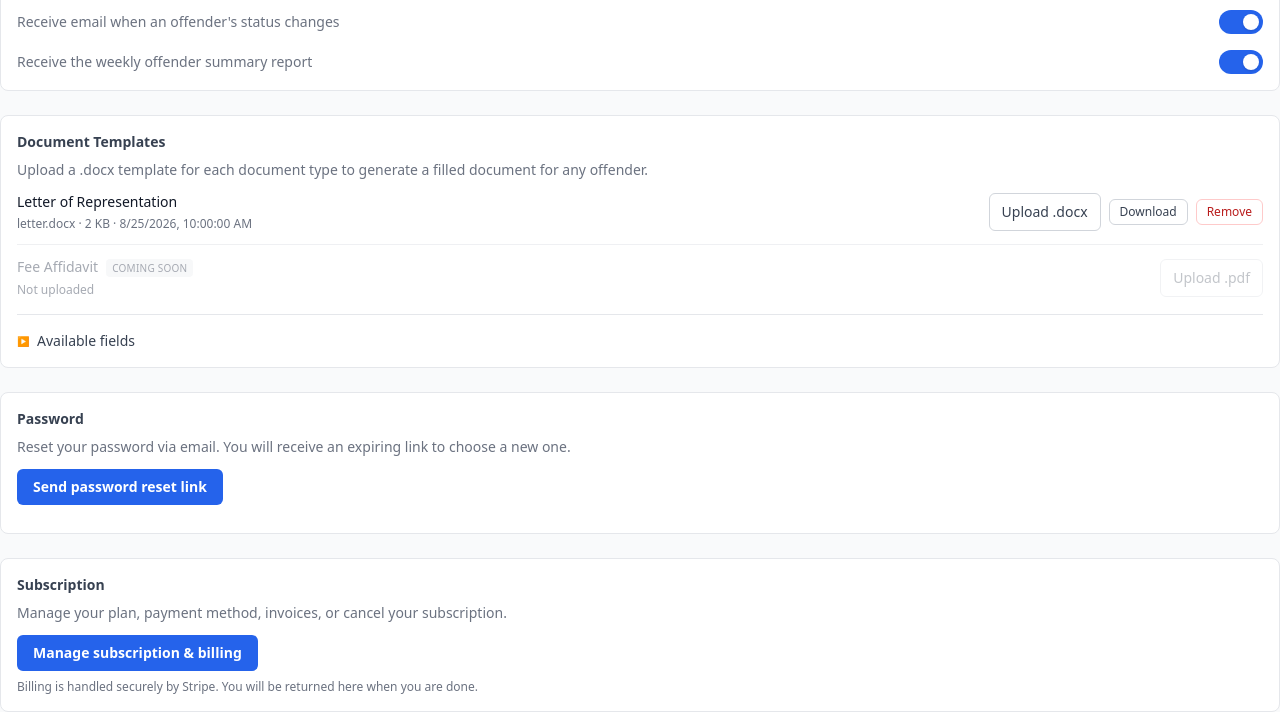
Test: Settings › password reset › shows an error banner when the reset email fails
This screenshot has width=1280, height=712.
(page scrolled)
Click the button "Send password reset link" at [120, 487], box [17,469,223,505]
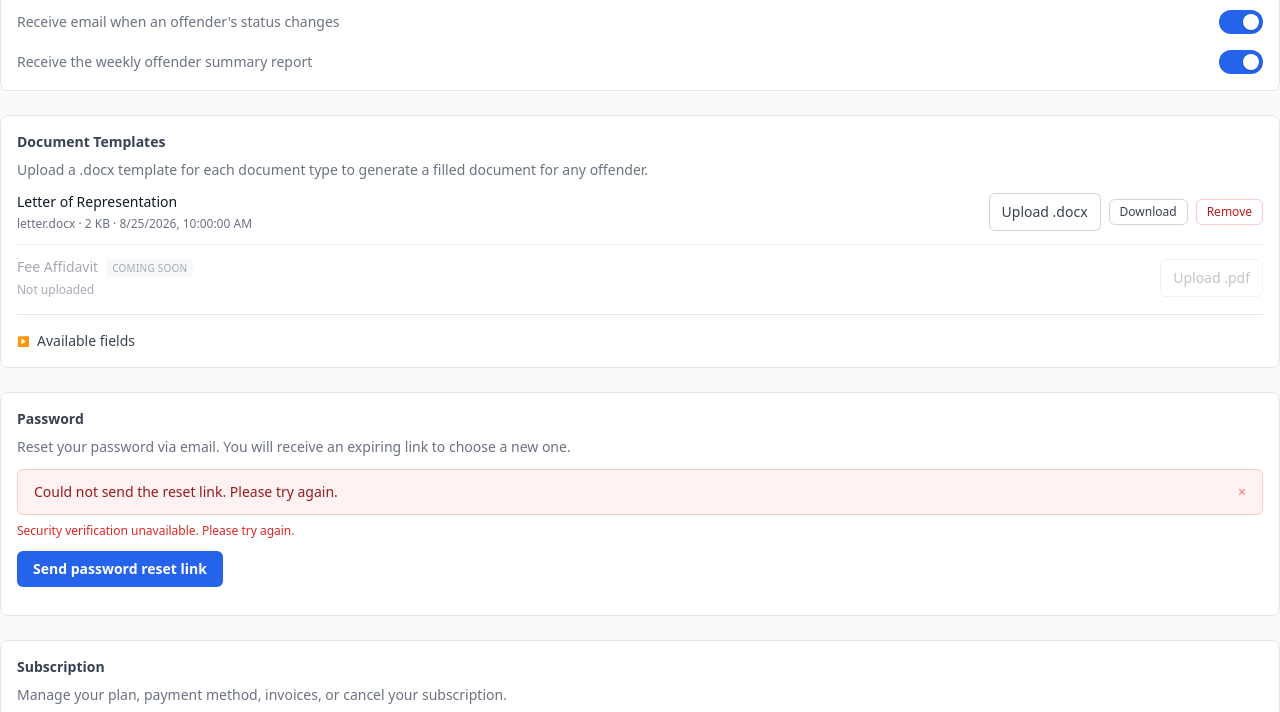
Check: the message "Could not send the reset link. Please try again. ×" is shown, box [17,469,1263,515]
